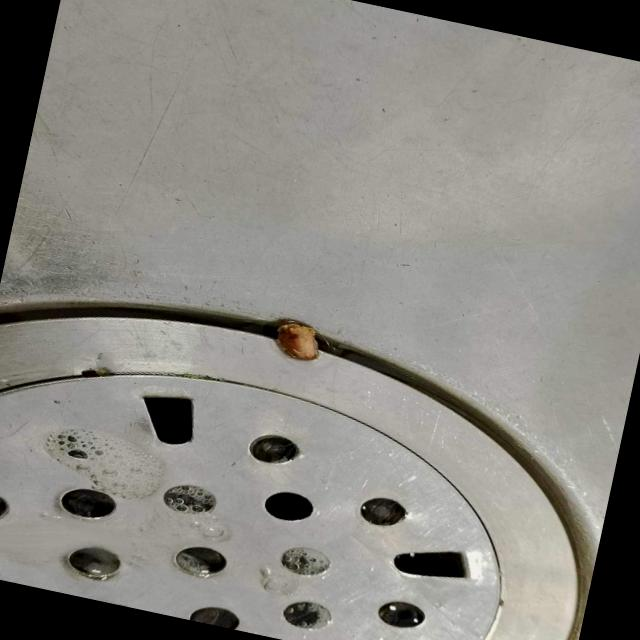General: (2, 0, 639, 639), (1, 297, 591, 639)
Sharps: (276, 320, 321, 360)
